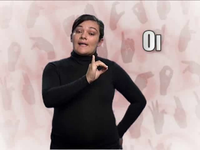oi: (83, 55, 109, 86)
